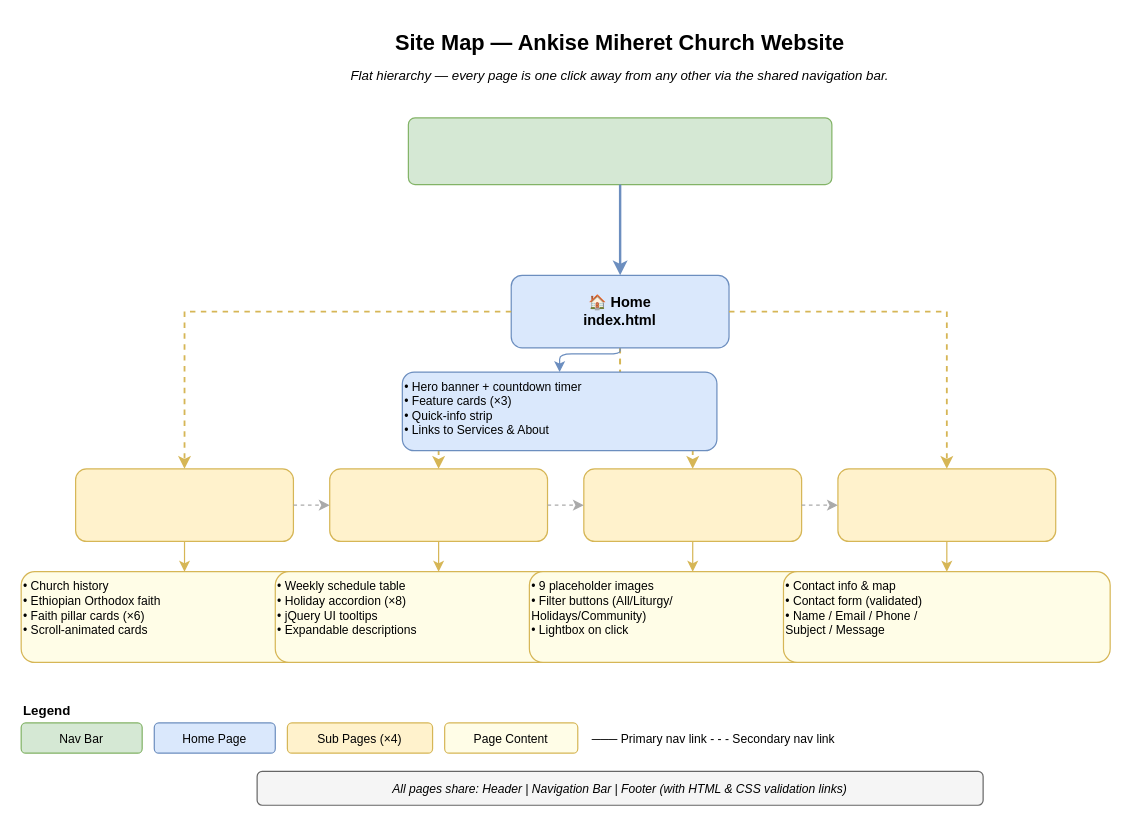
Image size: 1131x826. Some labels were removed from this diagram. Here are the shapes that lost their labels. From the top down, the centre of each, then its label:
the point at 619,151: Navigation Bar (Shared across all pages)
the point at 183,504: 📖 About about.html
the point at 438,504: 📅 Services services.html
the point at 692,504: 🖼 Gallery gallery.html
the point at 946,504: ✉ Contact contact.html
